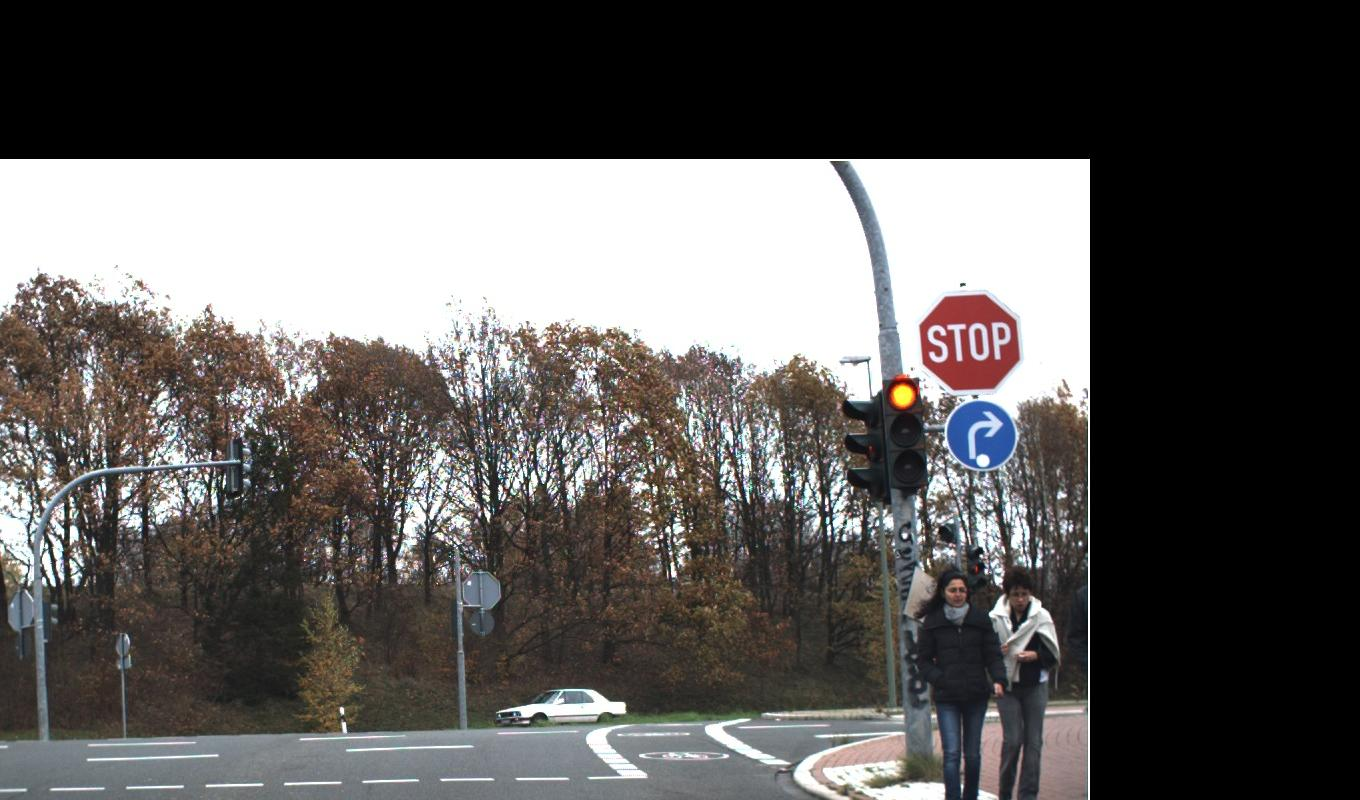stop: (915, 289, 1025, 471)
